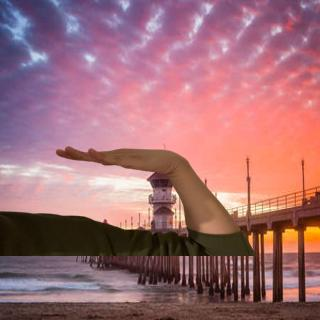WAIT: (50, 139, 185, 175)
